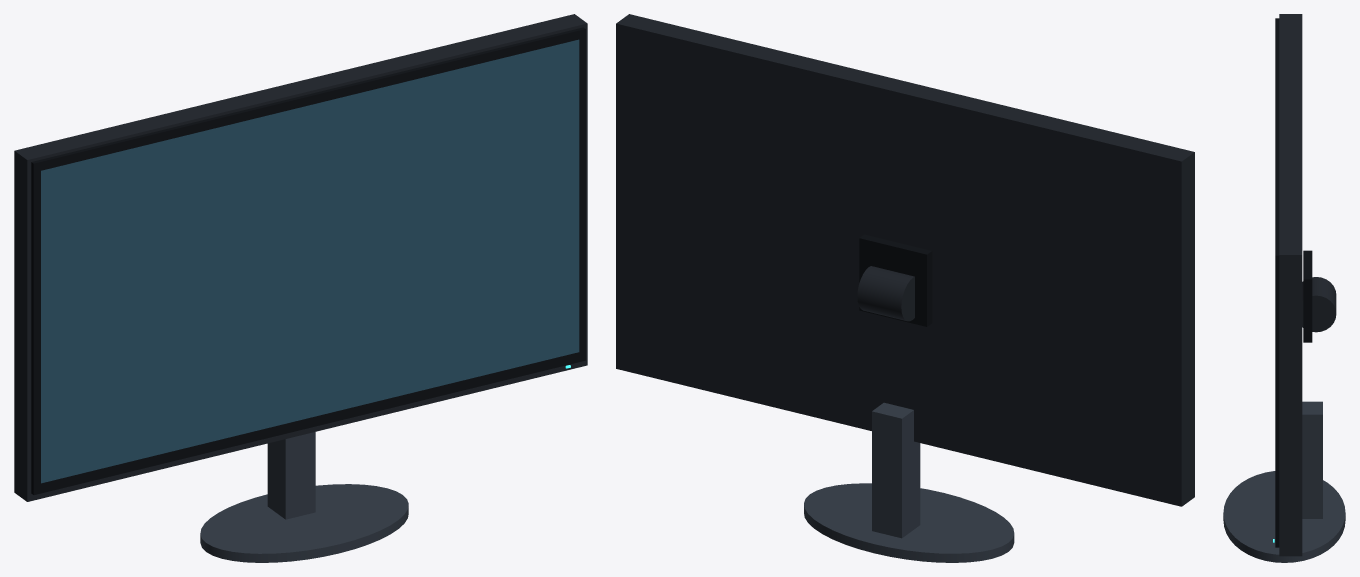
The model's file is monitor-q2775ce.glb.
3 renders of one model, left to right at view 1: azimuth 30°, elevation 25°; view 2: azimuth 150°, elevation 25°; view 3: azimuth 270°, elevation 25°, orthographic. The views are drawn at different scales.
Parts seen in each view (by area): view 1: monitor-Q2775CE (×5); view 2: monitor-Q2775CE (×5); view 3: monitor-Q2775CE (×6).
Boxes of the visible parts, x1=… form: monitor-Q2775CE (×5): x1=14, y1=14, x2=587, y2=562; monitor-Q2775CE (×5): x1=616, y1=14, x2=1194, y2=562; monitor-Q2775CE (×6): x1=1223, y1=14, x2=1345, y2=562.
Size of the model in its own units: 4.5 by 3.37 by 0.9638.
